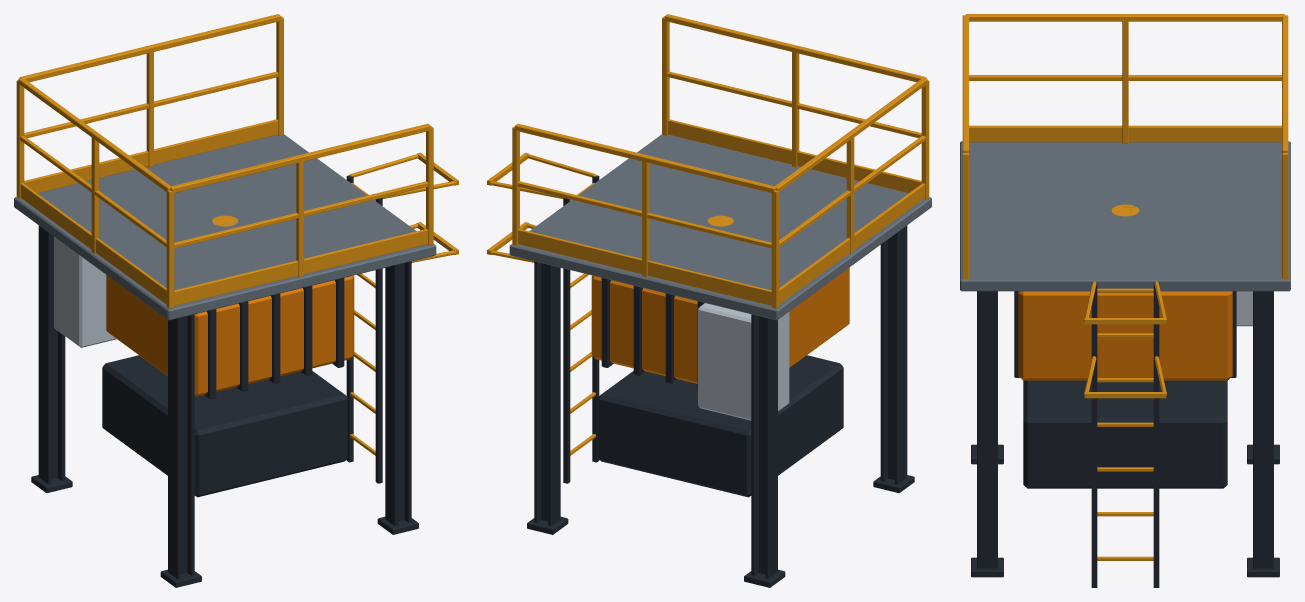
File: pgnaa_analyzer_an601.glb
The picture shows the model from 3 angles, left to right: view 1: azimuth 30°, elevation 25°; view 2: azimuth 150°, elevation 25°; view 3: azimuth 270°, elevation 25°; orthographic projection. The views are drawn at different scales.
Visible parts, largest first — view 1: AN_AnalyzerCabinet; view 2: AN_AnalyzerCabinet; view 3: AN_AnalyzerCabinet.
Boxes of the visible parts, left/top/right/bottom form: AN_AnalyzerCabinet: left=14, top=14, right=458, bottom=587; AN_AnalyzerCabinet: left=487, top=14, right=931, bottom=587; AN_AnalyzerCabinet: left=960, top=14, right=1290, bottom=587.
Size of the model in its own units: 3.05 by 3.38 by 2.35.
1 material, 1 textured.
